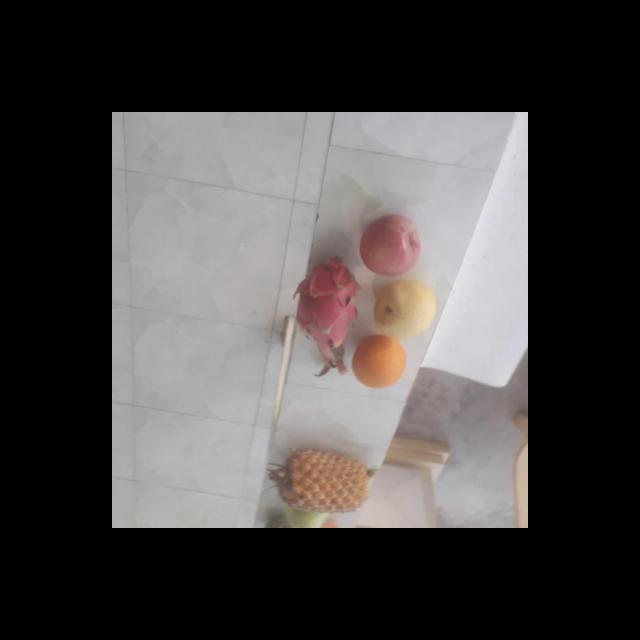apple: (359, 214, 422, 278)
orange: (354, 336, 408, 392)
pear: (372, 278, 438, 342)
pineapple: (275, 449, 375, 515)
pitaya: (297, 256, 369, 358)
